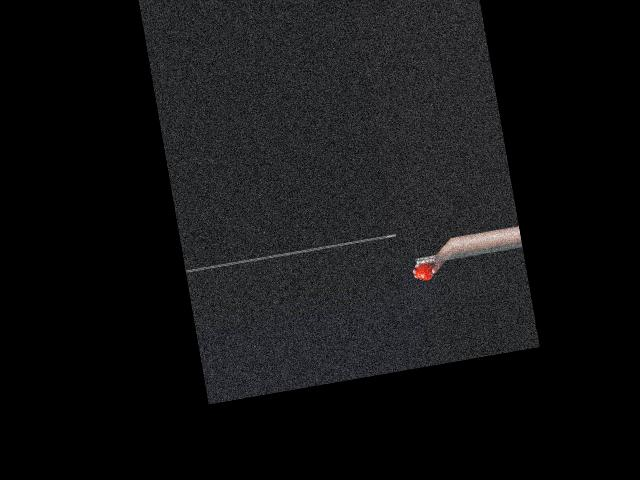tomato: (413, 262, 434, 282)
